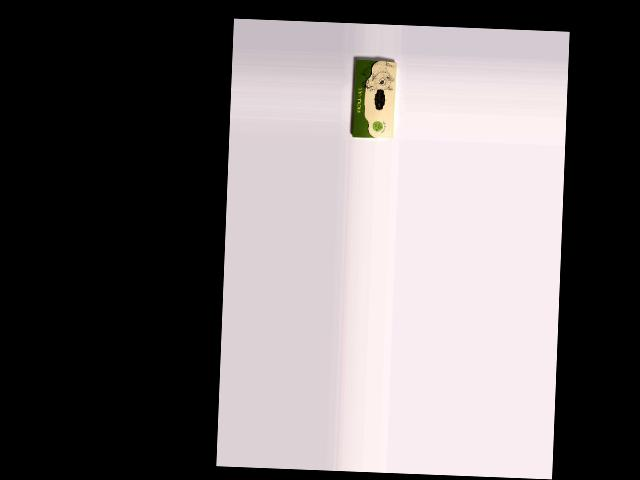chocolate: (351, 58, 397, 139)
